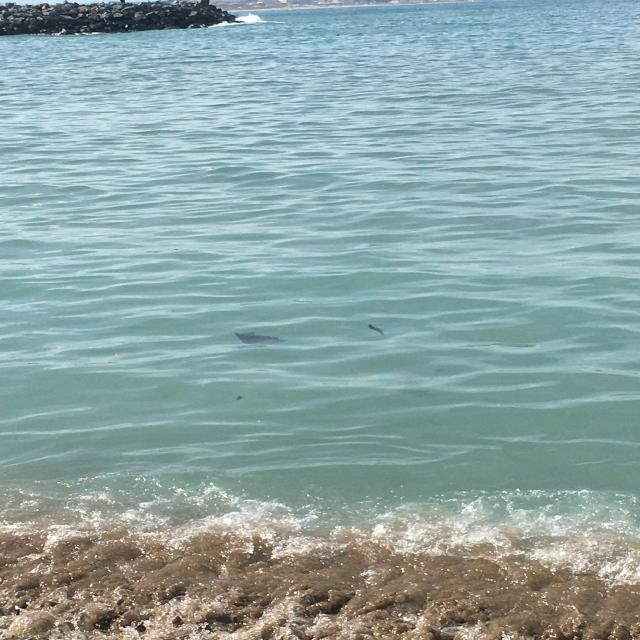Plastic bag: (232, 327, 290, 351), (364, 320, 392, 340)
